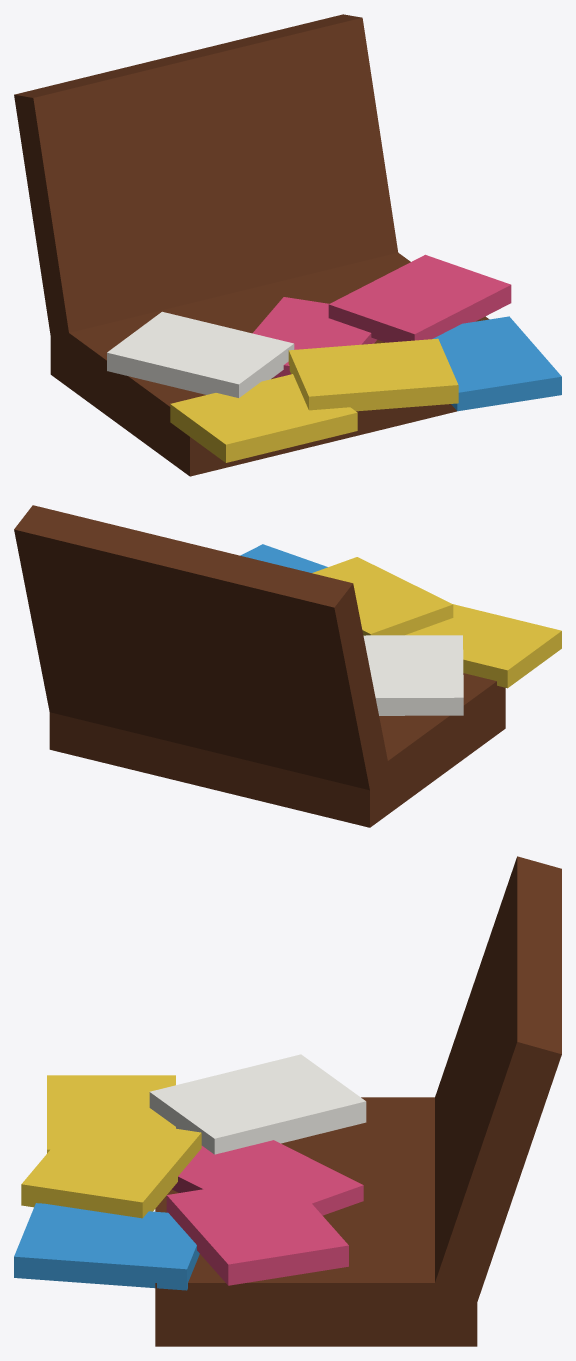
Rendered from chase_suitcase.glb.
The picture shows the model from 3 angles, top to bottom: view 1: azimuth 30°, elevation 25°; view 2: azimuth 150°, elevation 25°; view 3: azimuth 270°, elevation 25°; orthographic projection. The views are drawn at different scales.
Parts seen in each view (by area): view 1: lid, clothes, case; view 2: lid, case, clothes; view 3: clothes, case, lid.
Part boxes in pixels (left/top/right/bottom): lid: left=14, top=14, right=398, bottom=365; clothes: left=107, top=254, right=561, bottom=462; case: left=50, top=252, right=489, bottom=476; lid: left=14, top=505, right=393, bottom=809; case: left=49, top=673, right=505, bottom=827; clothes: left=240, top=544, right=561, bottom=715; clothes: left=14, top=1054, right=366, bottom=1290; case: left=155, top=1097, right=477, bottom=1346; lid: left=423, top=856, right=561, bottom=1330.
Bounding box in the file's own units: 0.8497 × 0.5745 × 0.936.
